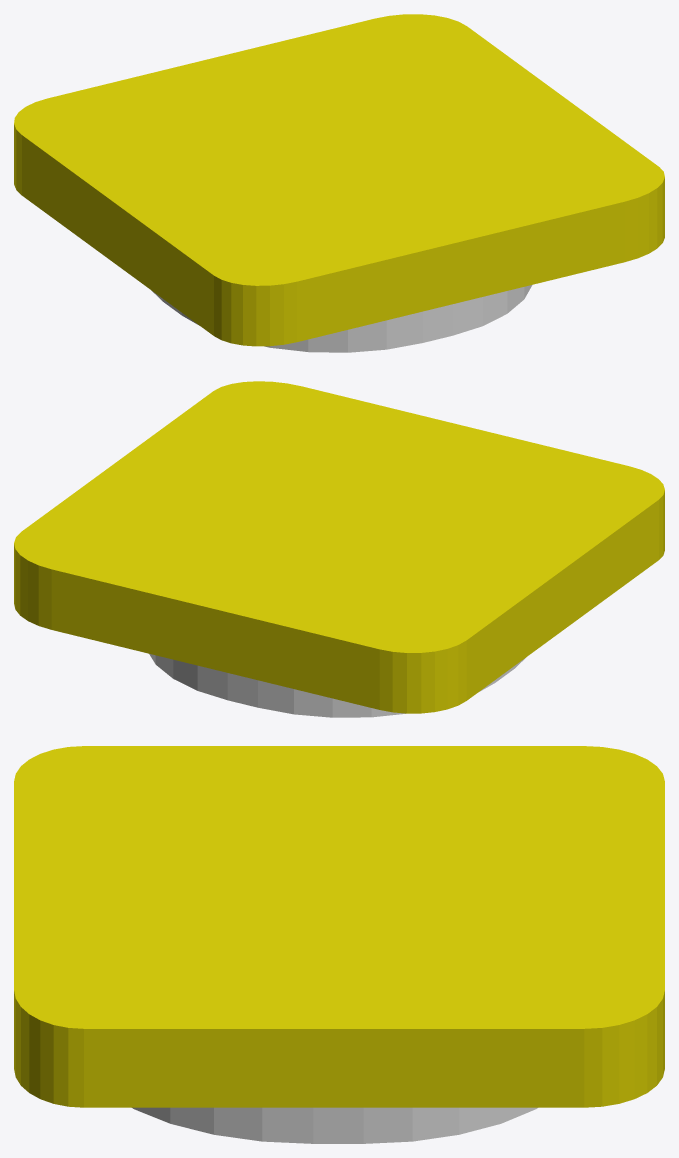
Rendered from ceilinglight.fbx.
The picture shows the model from 3 angles, top to bottom: view 1: azimuth 30°, elevation 25°; view 2: azimuth 150°, elevation 25°; view 3: azimuth 270°, elevation 25°; orthographic projection. The views are drawn at different scales.
Visible parts, largest first — view 1: Cube; view 2: Cube; view 3: Cube.
Boxes of the visible parts, box(x1,y1,x2,y2) form: Cube: box(14, 14, 664, 352); Cube: box(14, 381, 664, 717); Cube: box(14, 746, 664, 1143).
Bounding box in the file's own units: 405 × 113 × 394.
